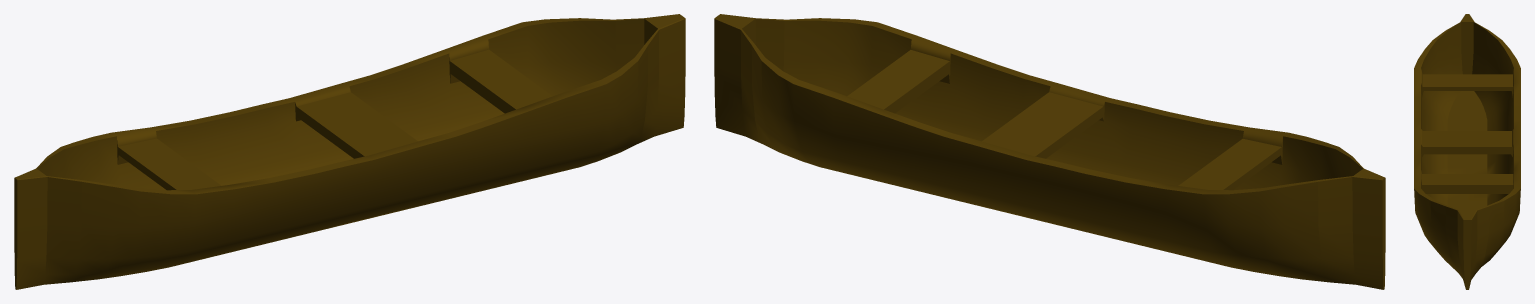
Rendered from Life_Boat.fbx.
The picture shows the model from 3 angles, left to right: view 1: azimuth 30°, elevation 25°; view 2: azimuth 150°, elevation 25°; view 3: azimuth 270°, elevation 25°; orthographic projection. The views are drawn at different scales.
Visible parts, largest first — view 1: pCube1; view 2: pCube1; view 3: pCube1.
Boxes of the visible parts, x1,y1,x2,y2 form: pCube1: [14, 14, 685, 289]; pCube1: [714, 14, 1385, 289]; pCube1: [1414, 14, 1520, 289].
Size of the model in its own units: 12.26 by 1.95 by 2.69.
